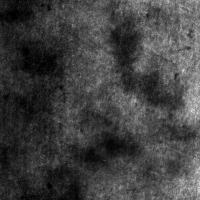patches: (90, 109, 174, 193), (113, 66, 185, 115), (103, 12, 146, 80), (71, 130, 141, 169), (14, 41, 63, 80), (37, 163, 85, 199), (1, 1, 40, 25)
